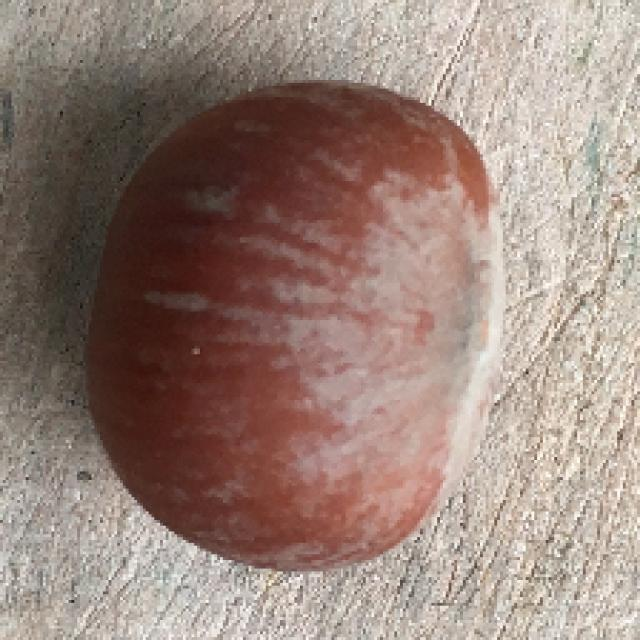qualityHazelnut: (92, 81, 504, 570)
